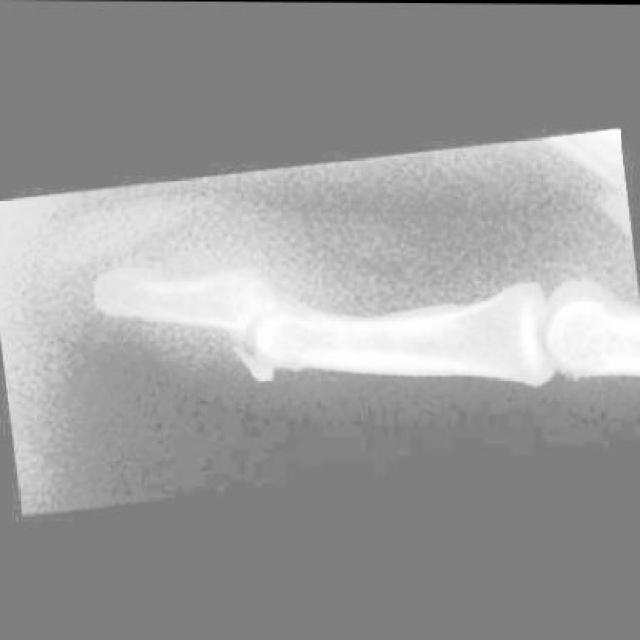Fracture: (220, 309, 316, 401)
